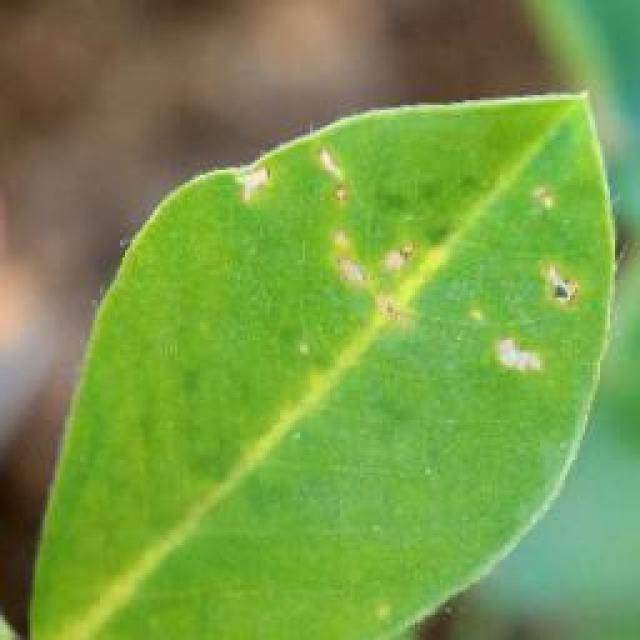Yellow_and_black_sigatoka: (29, 92, 610, 640)
